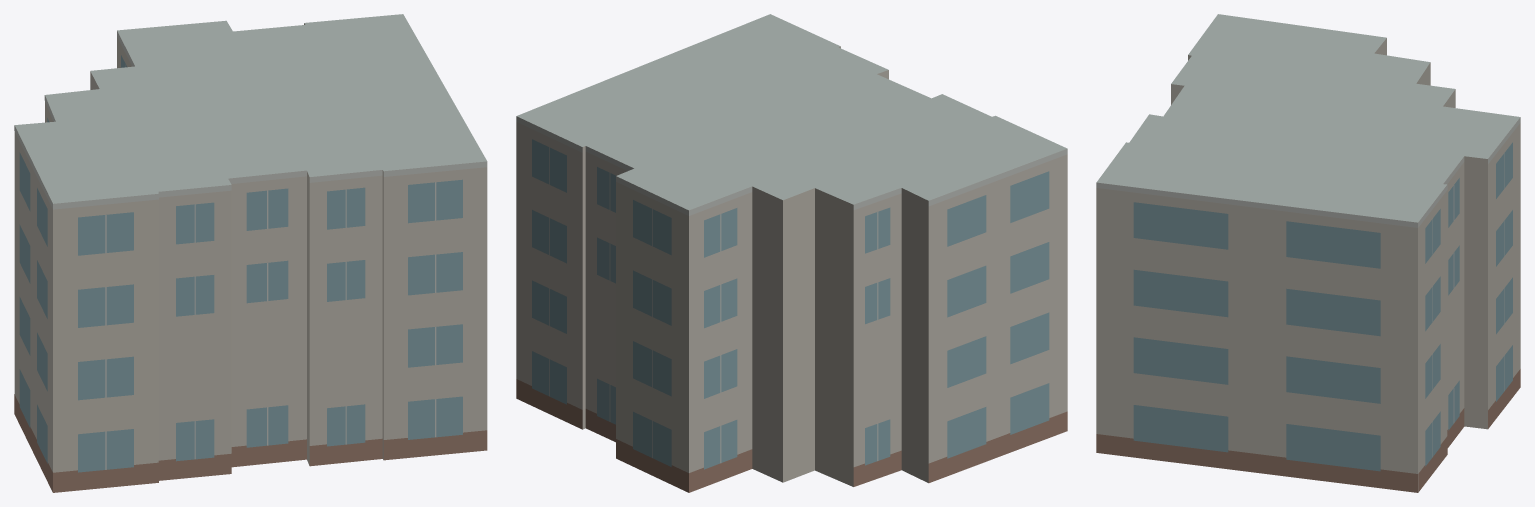
File: survey-upis-32638877.glb
3 renders of one model, left to right at view 1: azimuth 30°, elevation 25°; view 2: azimuth 150°, elevation 25°; view 3: azimuth 270°, elevation 25°, orthographic. The views are drawn at different scales.
Visible parts, largest first — view 1: survey-upis-32638877.tmp; view 2: survey-upis-32638877.tmp; view 3: survey-upis-32638877.tmp.
Boxes of the visible parts, x1=… form: survey-upis-32638877.tmp: x1=14, y1=14, x2=487, y2=492; survey-upis-32638877.tmp: x1=516, y1=14, x2=1067, y2=492; survey-upis-32638877.tmp: x1=1096, y1=14, x2=1520, y2=492.
Bounding box in the file's own units: 20.21 × 12.2 × 17.37.
